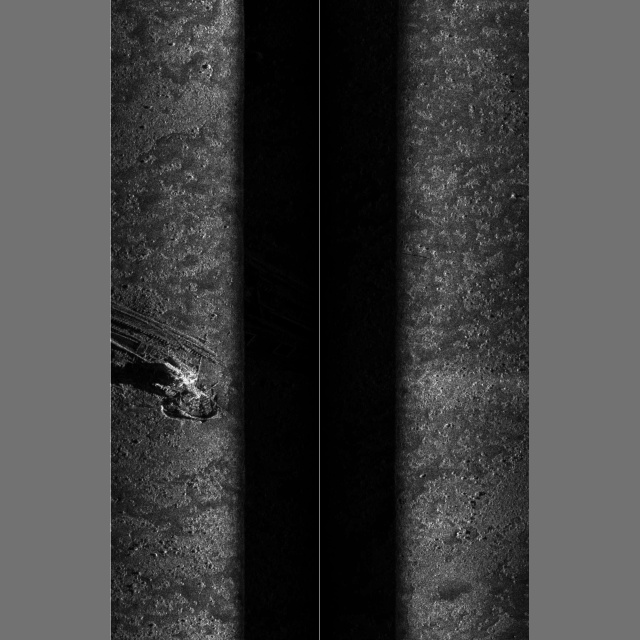Shipwreck: (110, 300, 229, 421)
